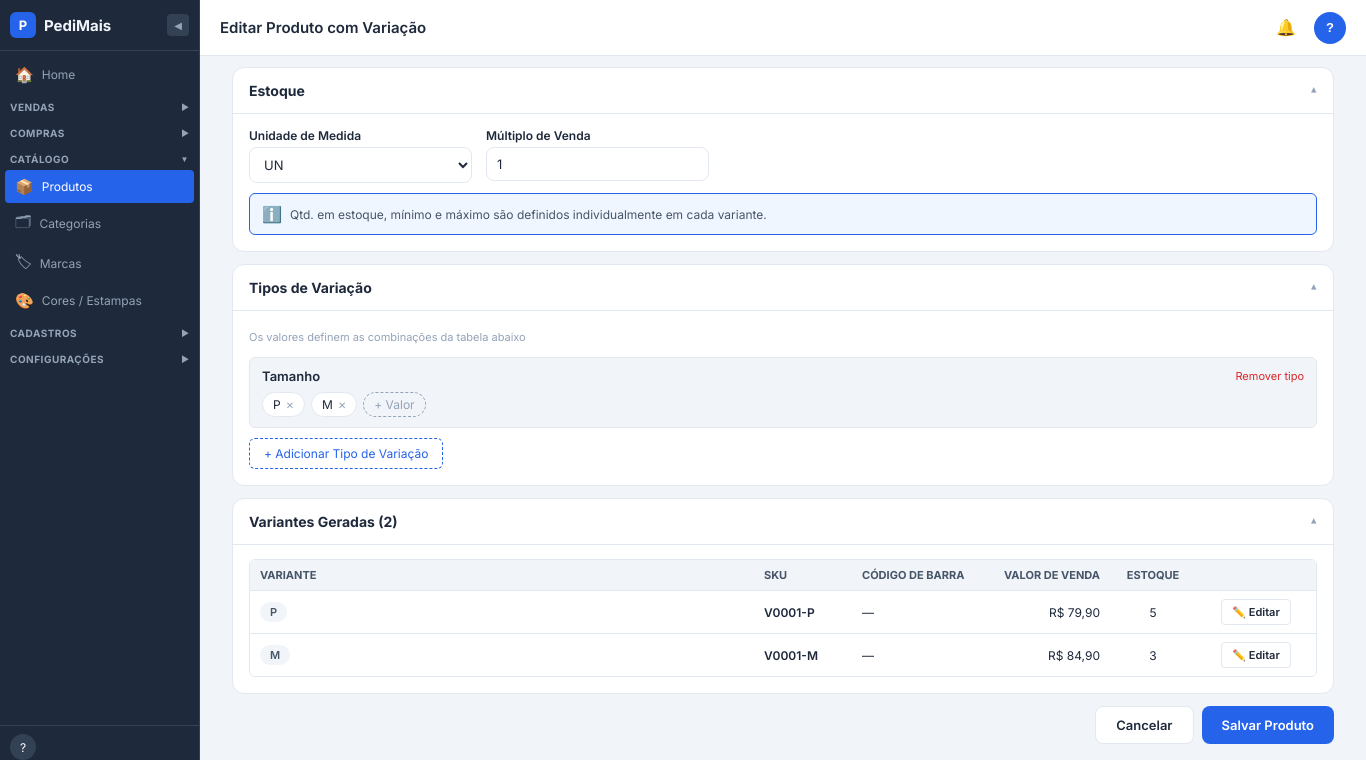
Test: ProductVariationFormView › deletes stale children and generates the new matrix when an axis is added to an already-loaded Variação
The width and height of the screenshot is (1366, 760).
(page scrolled)
Click the button with test id "adicionar-tipo-variacao": point(346, 454) [249,438,443,469]
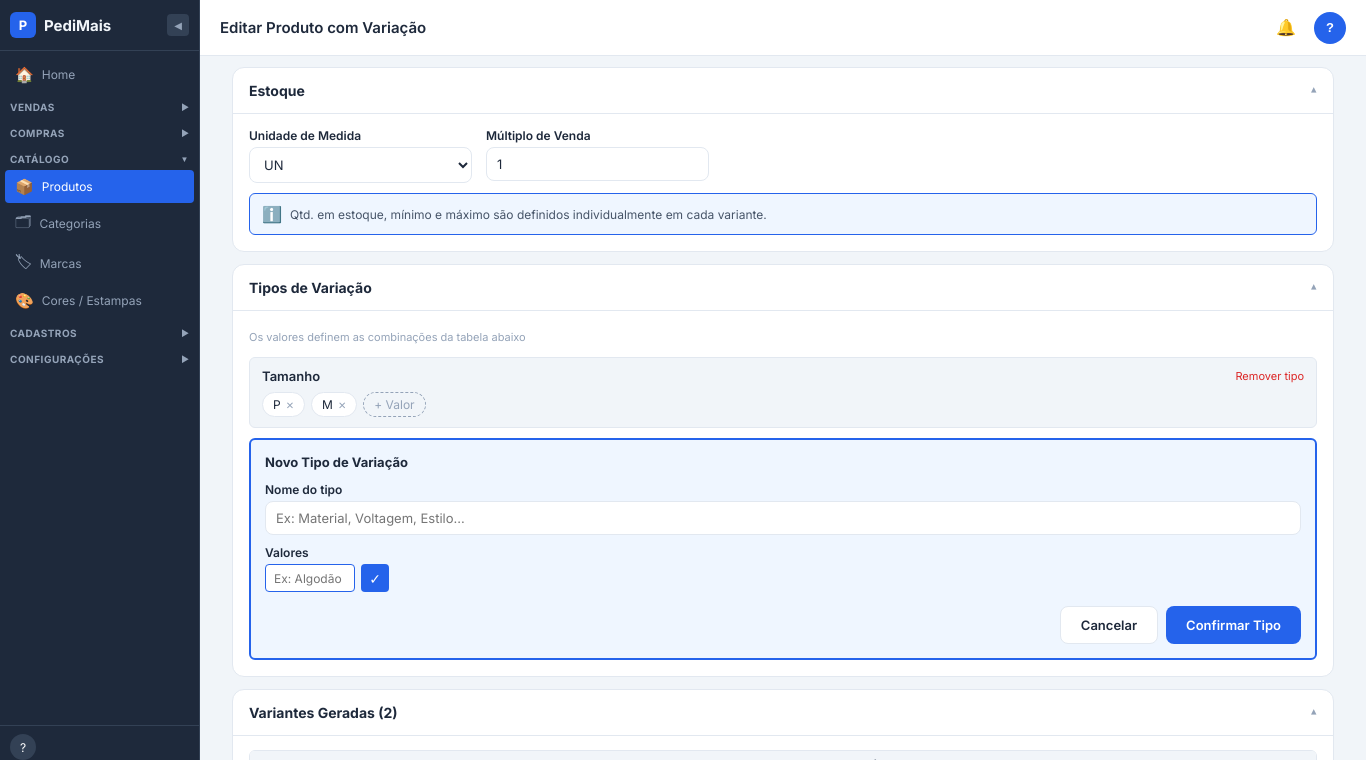
In the field with test id "var-novo-tipo-nome": point(783, 518) [265,501,1301,535], type "Cor"
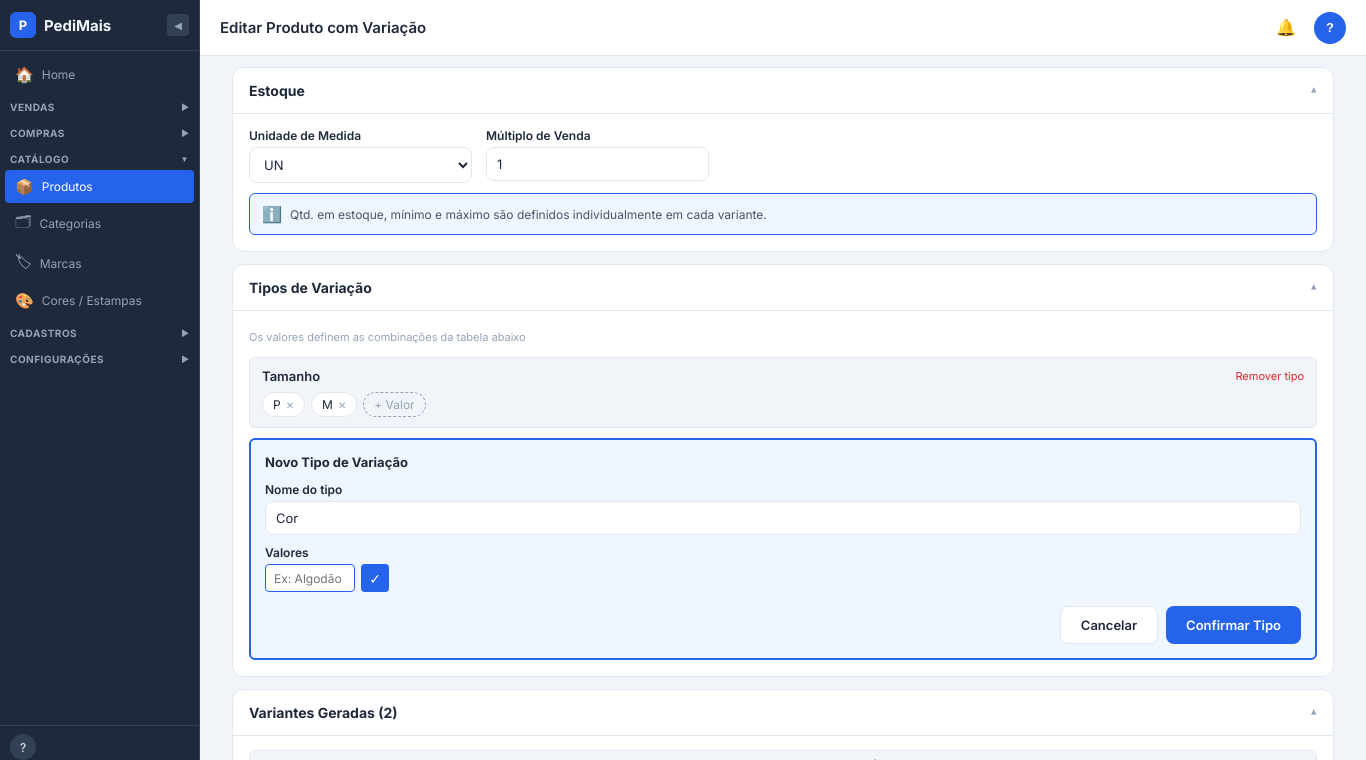
In the field with test id "var-novo-tipo-valor-input": point(310, 578) [265,564,355,592], type "Branco"
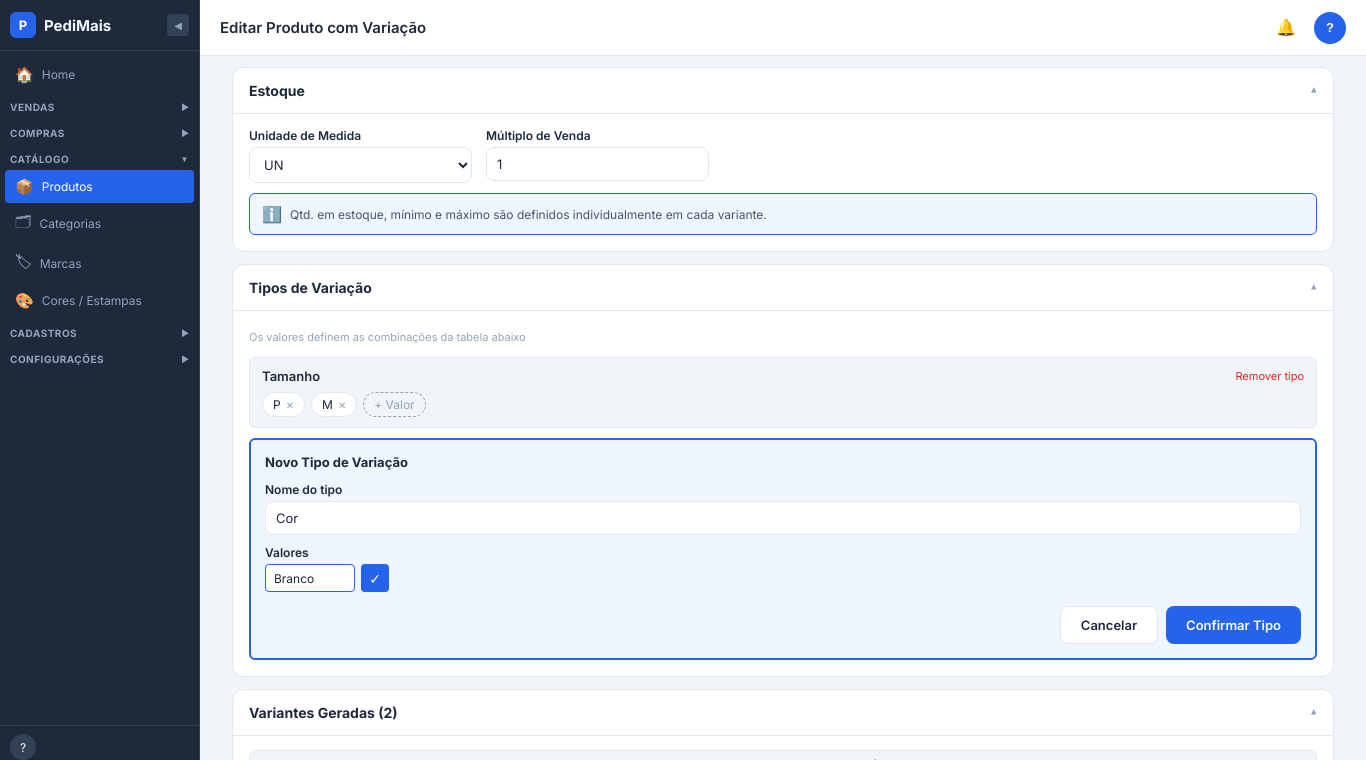
Click the text with test id "var-novo-tipo-valor-confirmar": point(375, 578) [361,564,389,592]
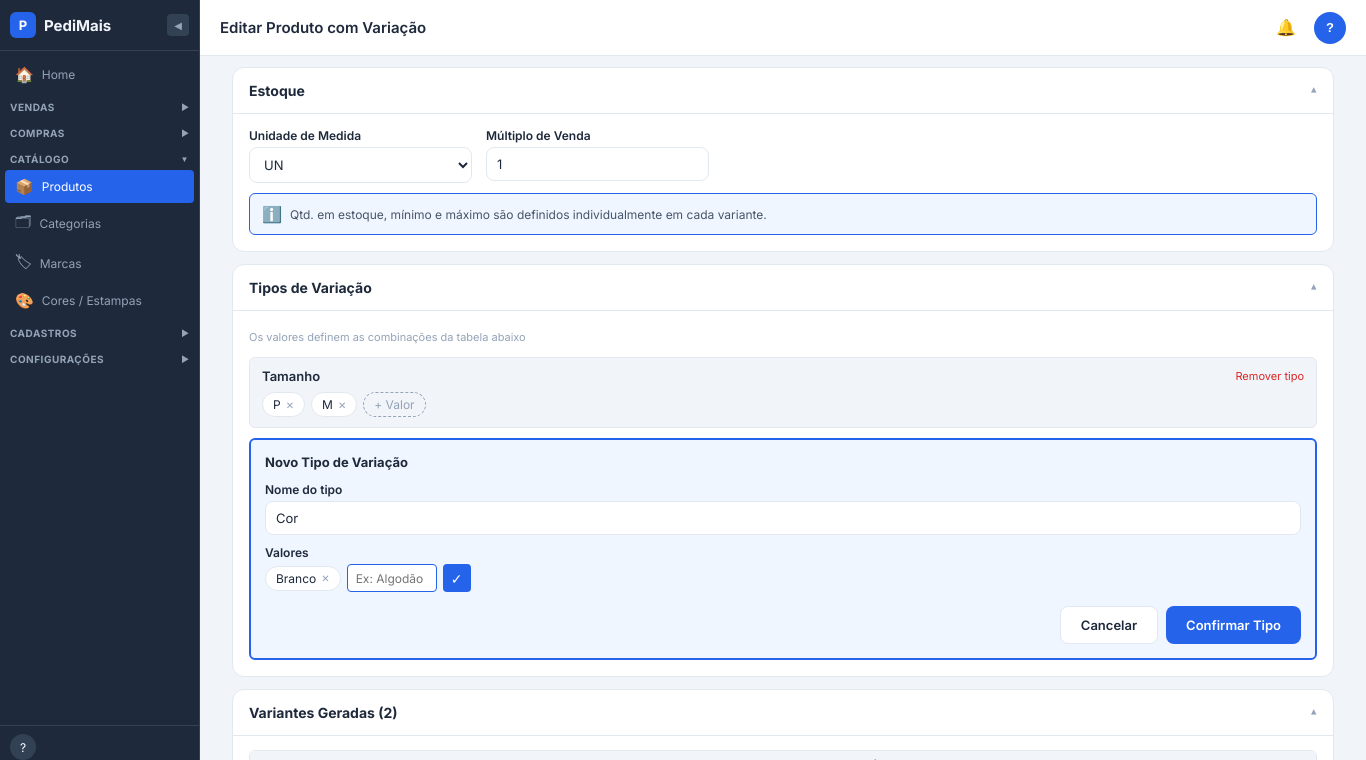
Click the button with test id "var-novo-tipo-confirmar": point(1234, 625) [1166,606,1301,644]
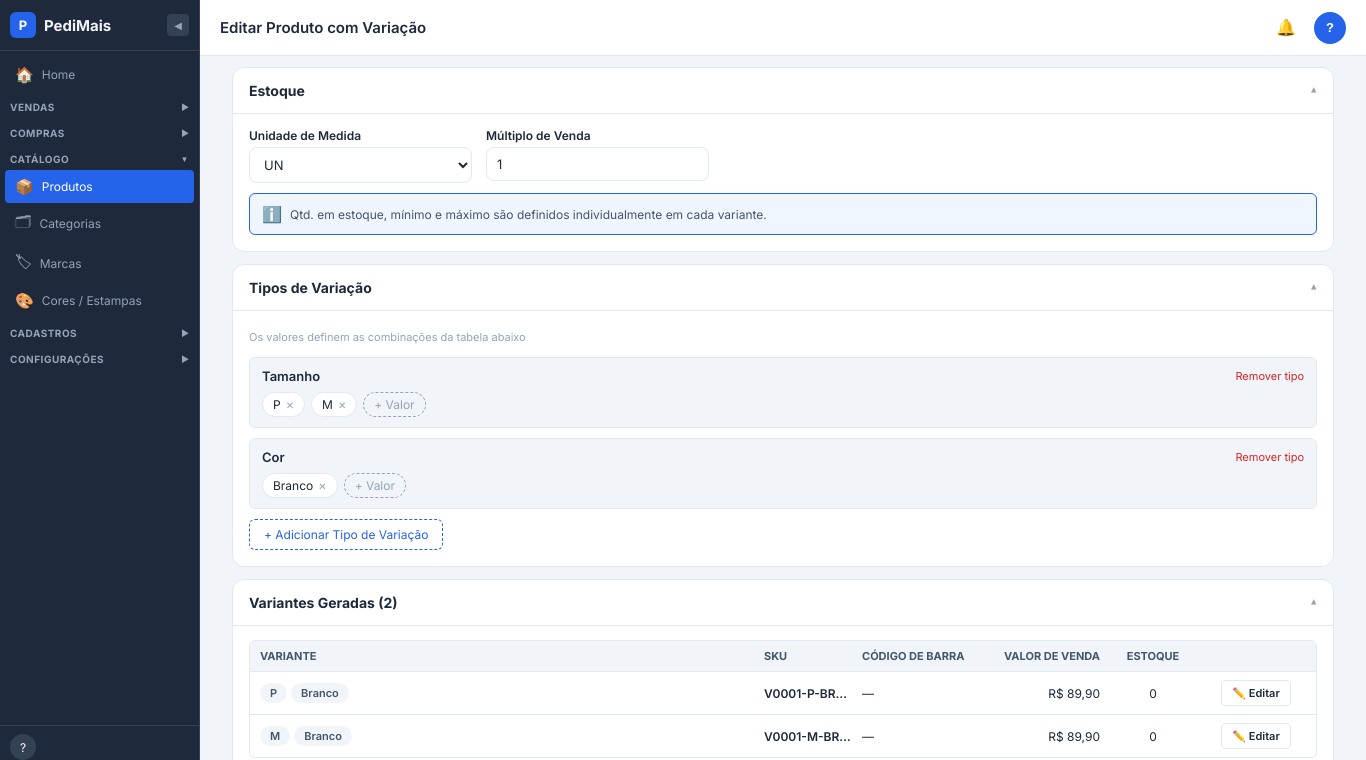
Check: the text "Variantes Geradas (2)" is shown, box [249,594,398,611]
Check: the text "V0001-P-BRANCO" is shown, box [764,686,854,700]
Check: the text "V0001-M-BRANCO" is shown, box [764,728,854,744]
